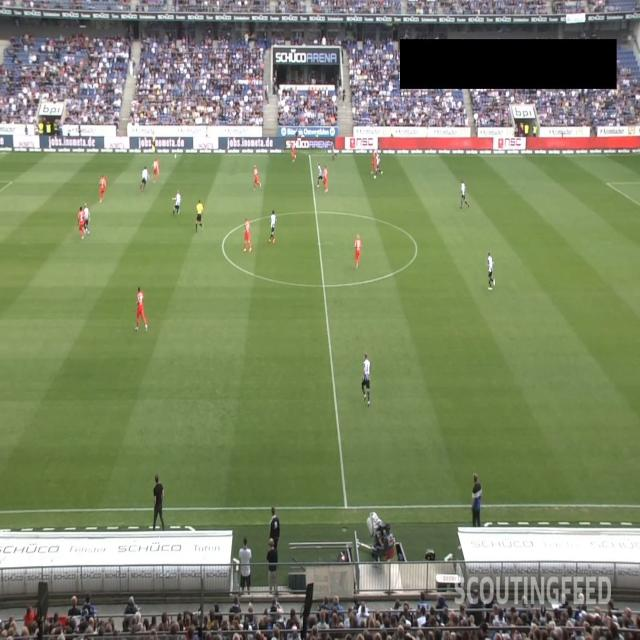ball: (174, 153, 177, 159)
